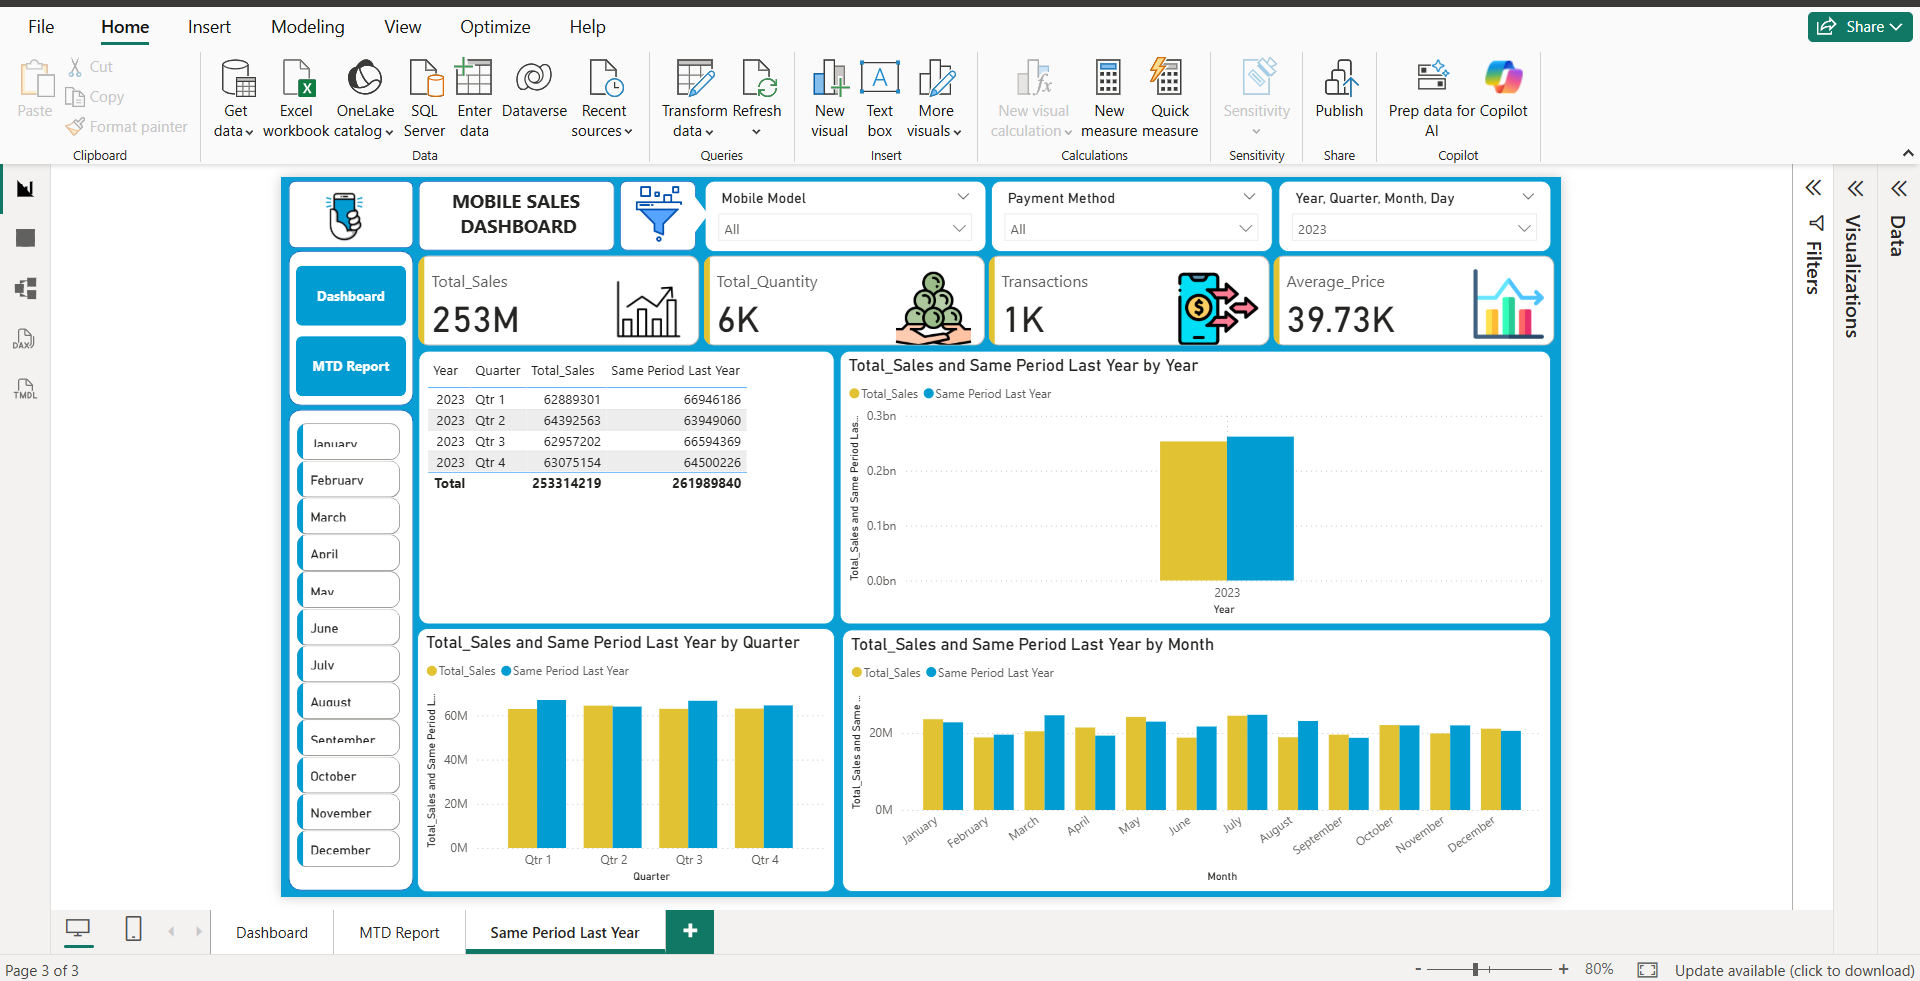

What the dashboard file says about the page in this screenshot:
{"tool":"powerbi","page":{"name":"Same Period Last Year","canvas":[1280,720],"ordinal":2},"visuals":[{"type":"shape","box":[7.5,3.8,125,67.5],"z":0},{"type":"image","box":[23.8,3.8,78.8,71.2],"z":1000},{"type":"shape","box":[7.5,73.8,125,155],"z":2000},{"type":"cardVisual","fields":{"Data":["Sales_Data.Total_Sales","Sales_Data.Total_Quantity","Sales_Data.Transactions","Sales_Data.Average_Price"]},"box":[132.5,73.8,1147.5,100],"z":3000},{"type":"slicer","fields":{"Values":["Sales_Data.Mobile Model"]},"box":[423.8,3.8,281.2,71.2],"z":4000},{"type":"slicer","fields":{"Values":["Sales_Data.Payment Method"]},"box":[710,3.8,281.2,71.2],"z":5000},{"type":"slicer","fields":{"Values":["Custom_Calendar.Date.Variation.Date Hierarchy.Year","Custom_Calendar.Date.Variation.Date Hierarchy.Quarter","Custom_Calendar.Date.Variation.Date Hierarchy.Month","Custom_Calendar.Date.Variation.Date Hierarchy.Day"]},"box":[997.5,3.8,272.5,71.2],"z":6000},{"type":"shape","box":[338.8,3.8,76.2,70],"z":7000},{"type":"image","box":[337.5,3.8,81.2,66.2],"z":8000},{"type":"shape","box":[397.5,17.5,30,40],"z":9000},{"type":"shape","box":[137.5,3.8,196.2,70],"z":10000},{"type":"textbox","box":[156.2,6.2,162.5,63.8],"z":11000},{"type":"shape","box":[7.5,232.5,125,481.2],"z":12000},{"type":"advancedSlicerVisual","fields":{"Values":["Custom_Calendar.Date.Variation.Date Hierarchy.Month"]},"box":[10.9,241.3,113.4,463.3],"z":13000},{"type":"tableEx","fields":{"Values":["Custom_Calendar.Date.Variation.Date Hierarchy.Year","Custom_Calendar.Date.Variation.Date Hierarchy.Quarter","Sales_Data.Total_Sales","Sales_Data.Same Period Last Year"]},"box":[137.5,173.7,416.2,273.9],"z":14000},{"type":"clusteredColumnChart","fields":{"Category":["Custom_Calendar.Date.Variation.Date Hierarchy.Year","Custom_Calendar.Date.Variation.Date Hierarchy.Quarter"],"Y":["Sales_Data.Total_Sales","Sales_Data.Same Period Last Year"]},"box":[558.8,173.8,711.2,273.8],"z":15000},{"type":"clusteredColumnChart","fields":{"Y":["Sales_Data.Total_Sales","Sales_Data.Same Period Last Year"],"Category":["Custom_Calendar.Date.Variation.Date Hierarchy.Year","Custom_Calendar.Date.Variation.Date Hierarchy.Quarter","Custom_Calendar.Date.Variation.Date Hierarchy.Month","Custom_Calendar.Date.Variation.Date Hierarchy.Day"]},"box":[561.2,452.5,708.8,262.5],"z":16000},{"type":"clusteredColumnChart","fields":{"Category":["Custom_Calendar.Date.Variation.Date Hierarchy.Year","Custom_Calendar.Date.Variation.Date Hierarchy.Quarter"],"Y":["Sales_Data.Total_Sales","Sales_Data.Same Period Last Year"]},"box":[136.2,451.2,417.5,263.8],"z":17000},{"type":"pageNavigator","box":[15,88.8,110,130],"z":18000}]}

Visuals, with their boxes on the page's 1280x720 design canvas (x1, y1, x2, y2). These are canvas units, not pixel positions in the 1920x981 screenshot, which may show the page scaled, cropped or inside an application window:
shape: [8,4,132,71]
image: [24,4,103,75]
shape: [8,74,132,229]
cardVisual - Sales_Data.Total_Sales x Sales_Data.Total_Quantity: [132,74,1280,174]
slicer - Sales_Data.Mobile Model: [424,4,705,75]
slicer - Sales_Data.Payment Method: [710,4,991,75]
slicer - Custom_Calendar.Date.Variation.Date Hierarchy.Year x Custom_Calendar.Date.Variation.Date Hierarchy.Quarter: [998,4,1270,75]
shape: [339,4,415,74]
image: [338,4,419,70]
shape: [398,18,428,58]
shape: [138,4,334,74]
textbox: [156,6,319,70]
shape: [8,232,132,714]
advancedSlicerVisual - Custom_Calendar.Date.Variation.Date Hierarchy.Month: [11,241,124,705]
tableEx - Custom_Calendar.Date.Variation.Date Hierarchy.Year x Custom_Calendar.Date.Variation.Date Hierarchy.Quarter: [138,174,554,448]
clusteredColumnChart - Custom_Calendar.Date.Variation.Date Hierarchy.Year x Custom_Calendar.Date.Variation.Date Hierarchy.Quarter: [559,174,1270,448]
clusteredColumnChart - Sales_Data.Total_Sales x Sales_Data.Same Period Last Year: [561,452,1270,715]
clusteredColumnChart - Custom_Calendar.Date.Variation.Date Hierarchy.Year x Custom_Calendar.Date.Variation.Date Hierarchy.Quarter: [136,451,554,715]
pageNavigator: [15,89,125,219]
